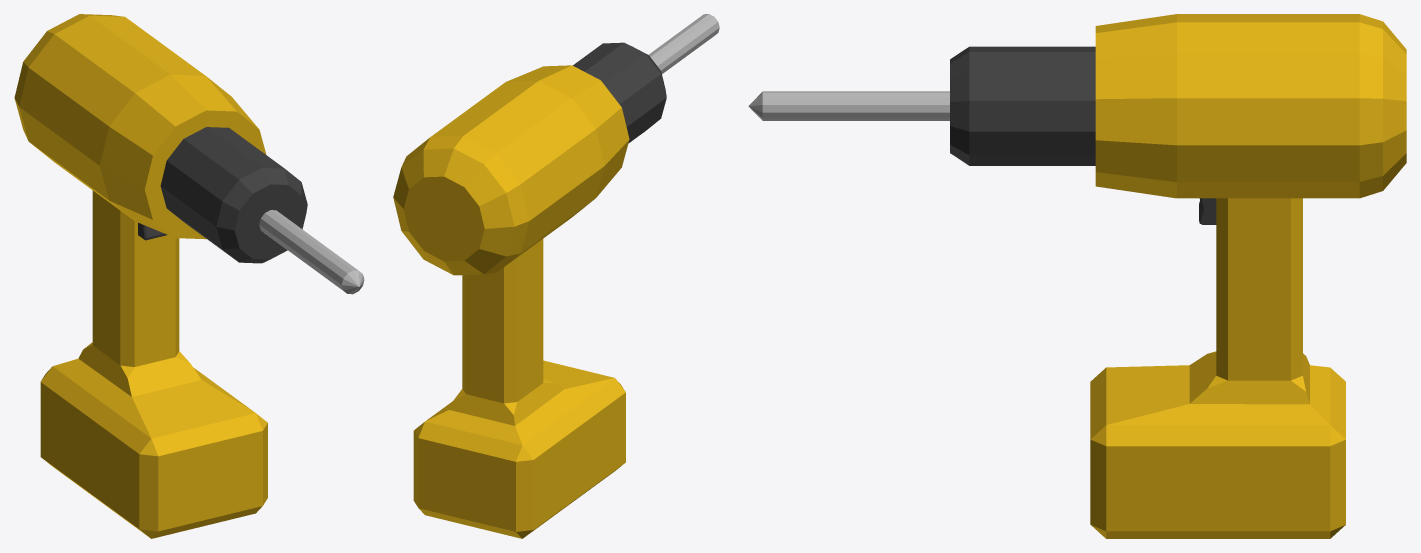
File: Drill.fbx
3 views of the same model, side by side, from view 1: azimuth 30°, elevation 25°; view 2: azimuth 150°, elevation 25°; view 3: azimuth 270°, elevation 25° (orthographic). The views are drawn at different scales.
Visible parts, largest first — view 1: Drill; view 2: Drill; view 3: Drill.
Part boxes in pixels (bbox=[...]): Drill: bbox=[14, 14, 364, 538]; Drill: bbox=[393, 14, 719, 538]; Drill: bbox=[748, 14, 1406, 538].
Size of the model in its own units: 20.22 by 58.64 by 71.9.
